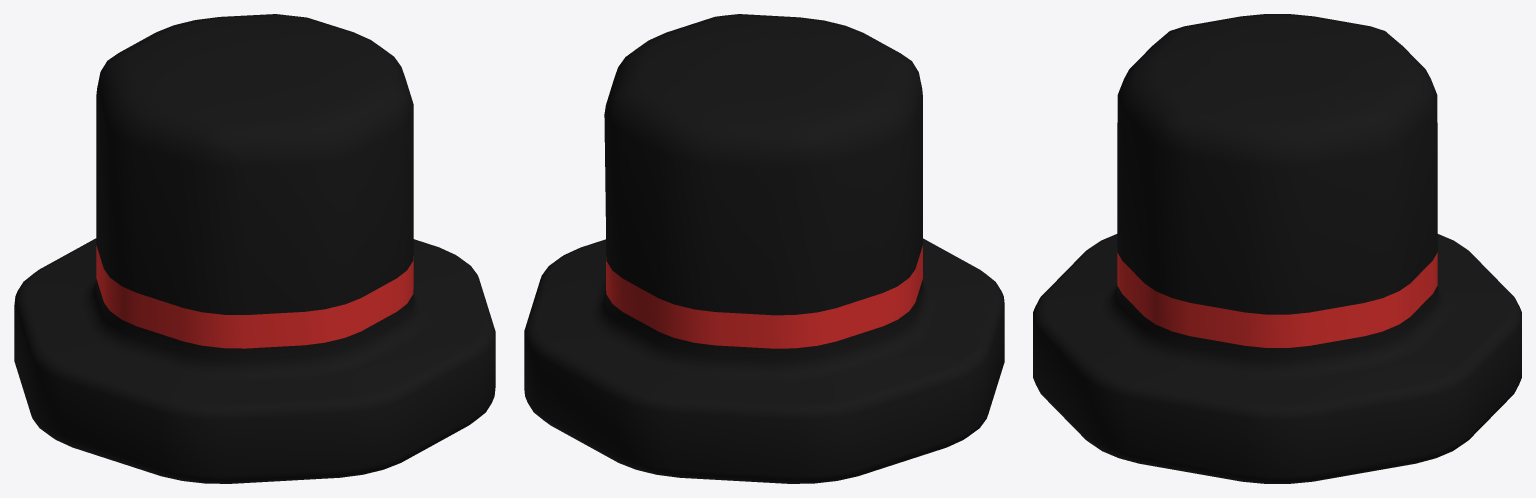
File: Hat.fbx
3 views of the same model, side by side, from view 1: azimuth 30°, elevation 25°; view 2: azimuth 150°, elevation 25°; view 3: azimuth 270°, elevation 25° (orthographic).
Visible parts, largest first — view 1: Hat; view 2: Hat; view 3: Hat.
Part boxes in pixels (x1=…): Hat: x1=14, y1=14, x2=495, y2=483; Hat: x1=524, y1=14, x2=1004, y2=483; Hat: x1=1033, y1=14, x2=1521, y2=483.
Bounding box in the file's own units: 139 × 100 × 139.
